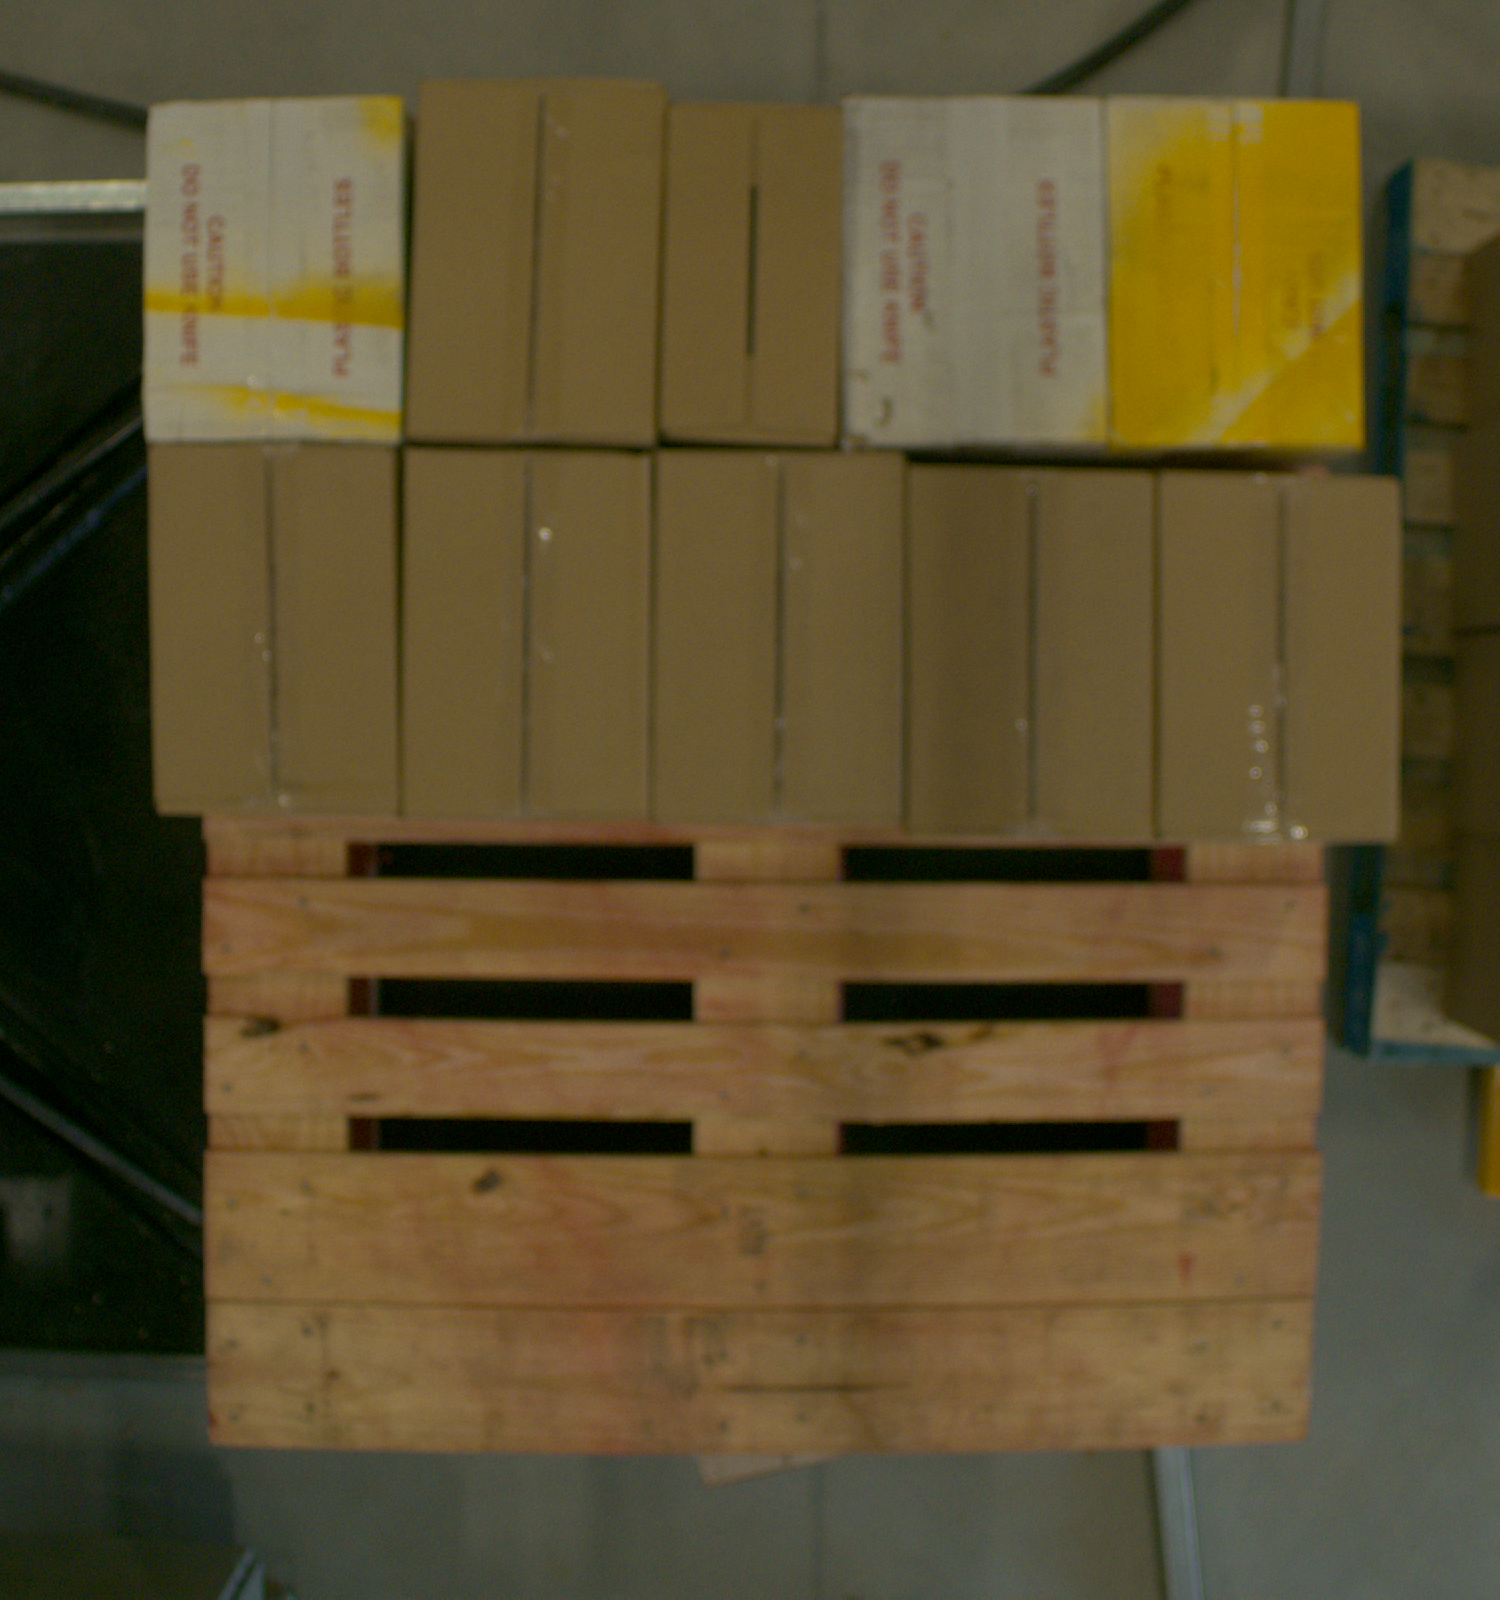box top: (651, 460, 905, 833), (407, 78, 663, 443), (908, 469, 1156, 839), (144, 97, 405, 445), (403, 453, 651, 818), (849, 97, 1107, 447), (155, 453, 405, 812), (1112, 99, 1367, 450), (1162, 475, 1398, 843), (661, 103, 844, 443)
